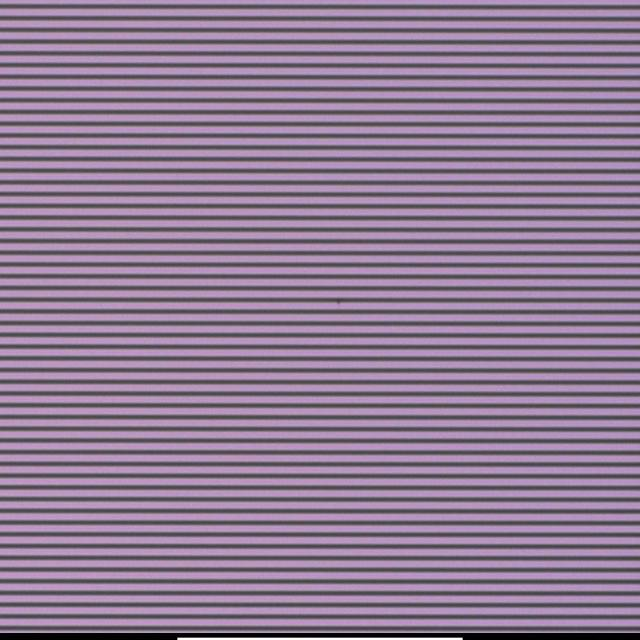03_intrusion: (331, 294, 344, 309)
